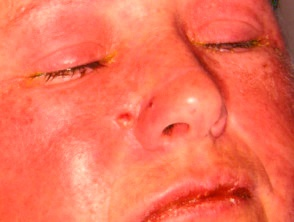SJS-TEN: (83, 136, 263, 222)
